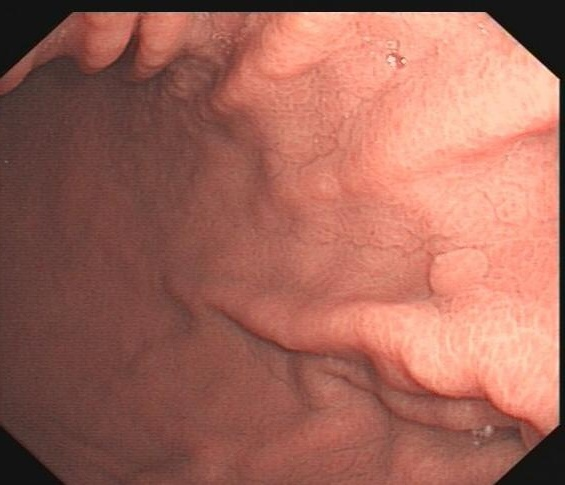Polyp: (434, 232, 497, 301)
